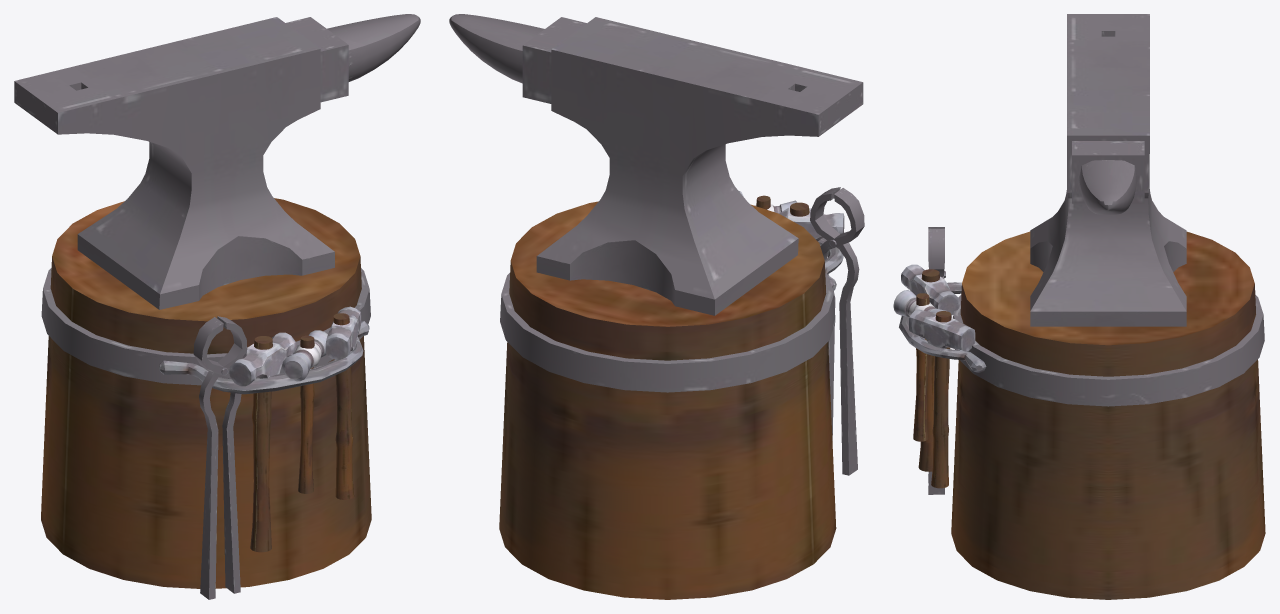
Rendered from prop_anvil_log.glb.
The picture shows the model from 3 angles, left to right: view 1: azimuth 30°, elevation 25°; view 2: azimuth 150°, elevation 25°; view 3: azimuth 270°, elevation 25°; orthographic projection. The views are drawn at different scales.
Parts seen in each view (by area): view 1: Cylinder036_1, Cylinder036_2, Cylinder036; view 2: Cylinder036_2, Cylinder036_1, Cylinder036; view 3: Cylinder036_2, Cylinder036_1, Cylinder036.
Boxes of the visible parts, box(x1,y1,x2,y2) form: Cylinder036_1: box(14, 14, 420, 599); Cylinder036_2: box(41, 256, 371, 588); Cylinder036: box(52, 198, 360, 321); Cylinder036_2: box(499, 191, 844, 599); Cylinder036_1: box(449, 14, 864, 475); Cylinder036: box(510, 201, 824, 326); Cylinder036_2: box(893, 264, 1265, 599); Cylinder036_1: box(899, 14, 1264, 494); Cylinder036: box(962, 231, 1254, 345).
Bounding box in the file's own units: 0.9293 × 1.07 × 0.8214.
Materials: 3 (3 with a texture image).
